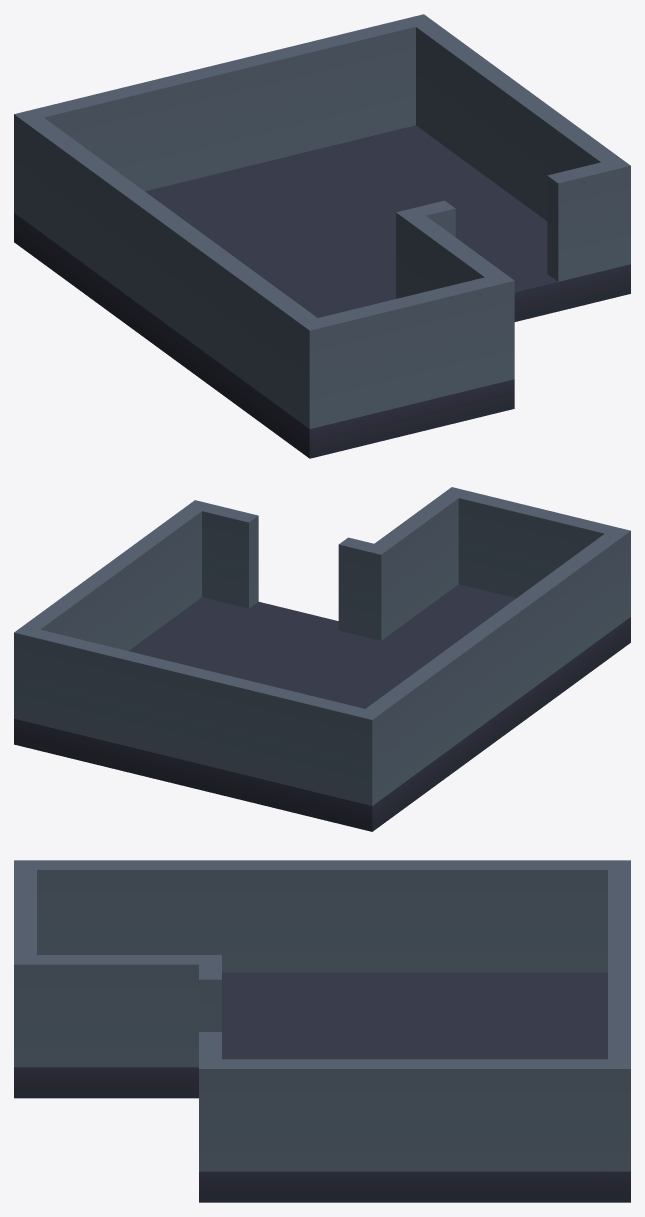
File: Fundaments_2_3.fbx
3 views of the same model, one above another, from view 1: azimuth 30°, elevation 25°; view 2: azimuth 150°, elevation 25°; view 3: azimuth 270°, elevation 25° (orthographic). The views are drawn at different scales.
Parts seen in each view (by area): view 1: Fundaments_2_3; view 2: Fundaments_2_3; view 3: Fundaments_2_3.
Part boxes in pixels (x1=…): Fundaments_2_3: x1=14, y1=14, x2=630, y2=458; Fundaments_2_3: x1=14, y1=487, x2=630, y2=831; Fundaments_2_3: x1=14, y1=860, x2=630, y2=1202.
Size of the model in its own units: 800 by 239 by 1000.
